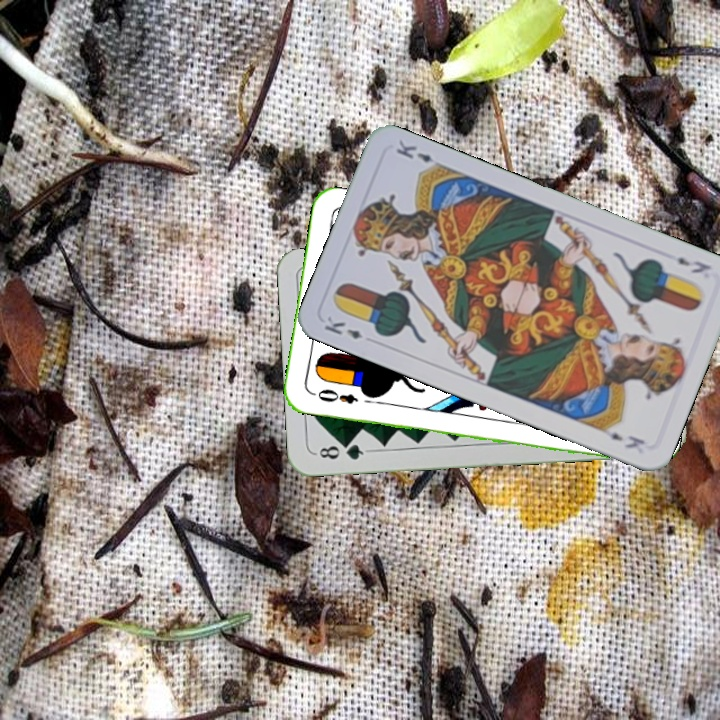EK: (320, 312, 365, 342), (673, 253, 714, 276)
EO: (307, 385, 361, 406)
G8: (312, 439, 371, 463)
